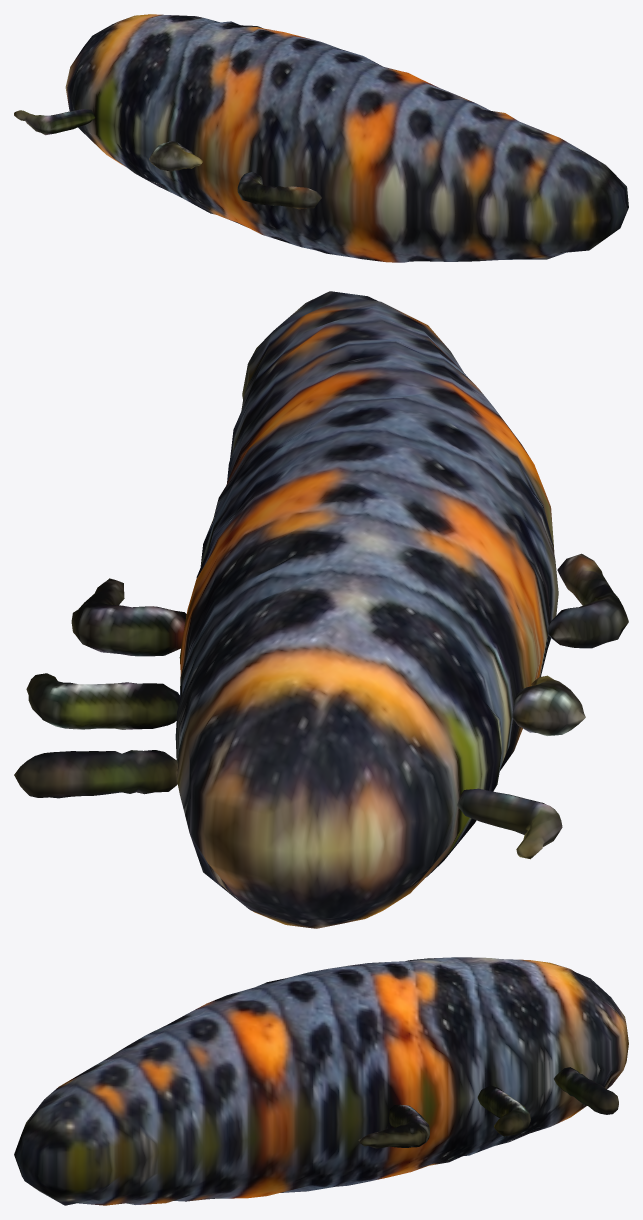
File: Larva.FBX
3 views of the same model, one above another, from view 1: azimuth 30°, elevation 25°; view 2: azimuth 150°, elevation 25°; view 3: azimuth 270°, elevation 25° (orthographic). The views are drawn at different scales.
Visible parts, largest first — view 1: model_367651024264; view 2: model_367651024264; view 3: model_367651024264.
Boxes of the visible parts, x1,y1,x2,y2 form: model_367651024264: (14, 14, 628, 262); model_367651024264: (14, 291, 628, 928); model_367651024264: (14, 957, 628, 1205).
Bounding box in the file's own units: 1.93 × 0.9522 × 2.58.
1 material, 1 textured.
